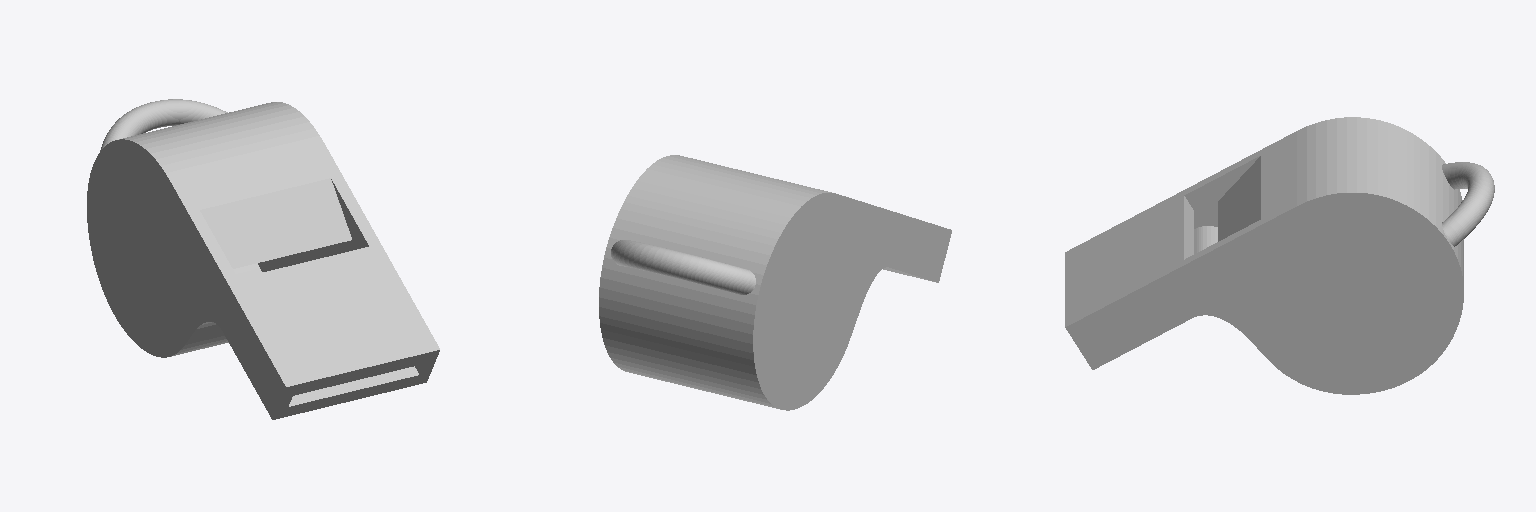
The model's file is whistle.obj.
3 views of the same model, side by side, from view 1: azimuth 30°, elevation 25°; view 2: azimuth 150°, elevation 25°; view 3: azimuth 270°, elevation 25° (orthographic).
Parts seen in each view (by area): view 1: whistle_v2; view 2: whistle_v2; view 3: whistle_v2.
Boxes of the visible parts, box(x1,y1,x2,y2) form: whistle_v2: box(87, 99, 439, 419); whistle_v2: box(599, 155, 951, 410); whistle_v2: box(1065, 117, 1494, 394).
Bounding box in the file's own units: 20 × 25.04 × 48.19.